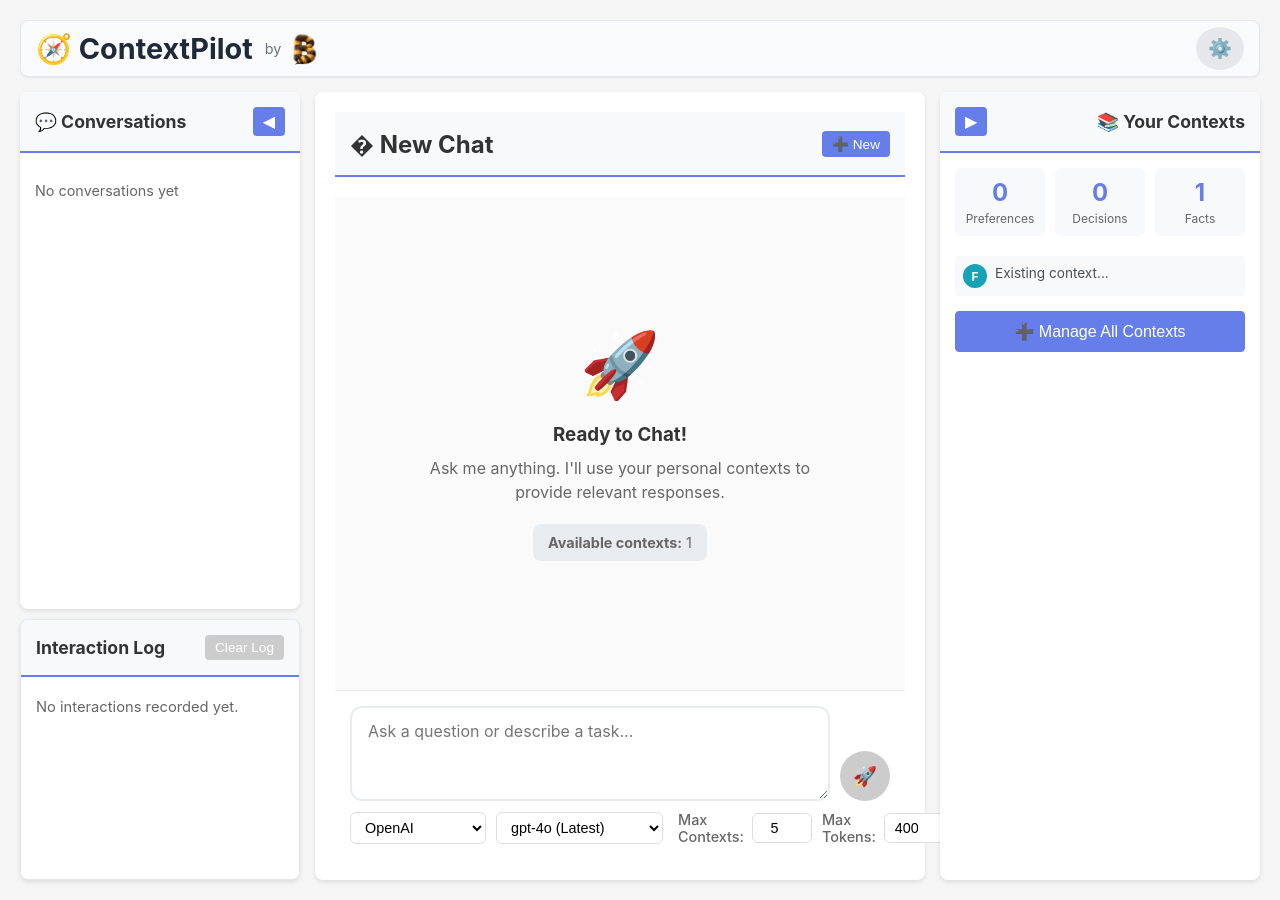
Scenario: App integration › opens settings modal and saves settings
Click the button titled "Settings" at point(1220, 48), box [1196,27,1244,70]
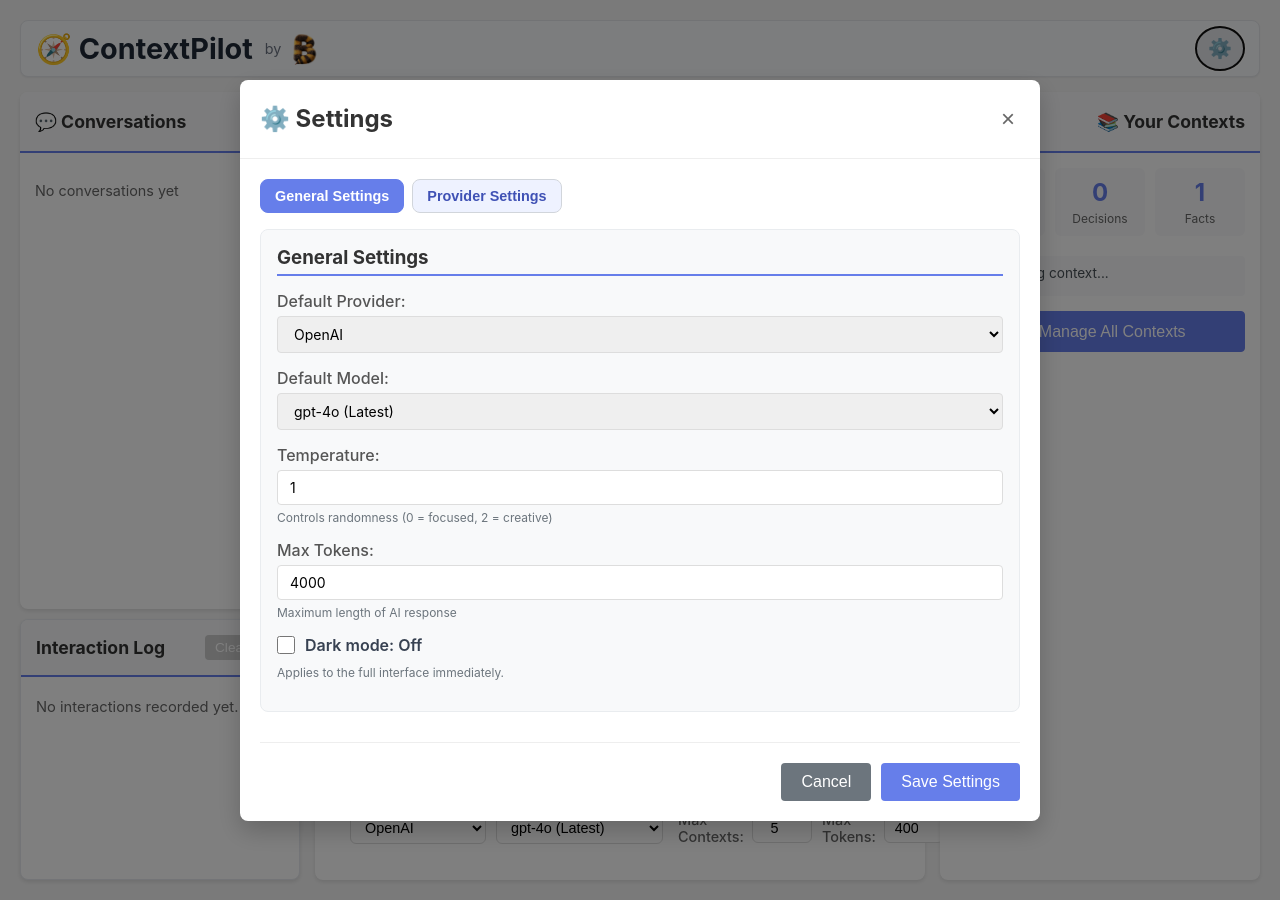
Check: the form with class "settings-form" is shown
Submit the form with class "settings-form", box [240,158,1040,820]
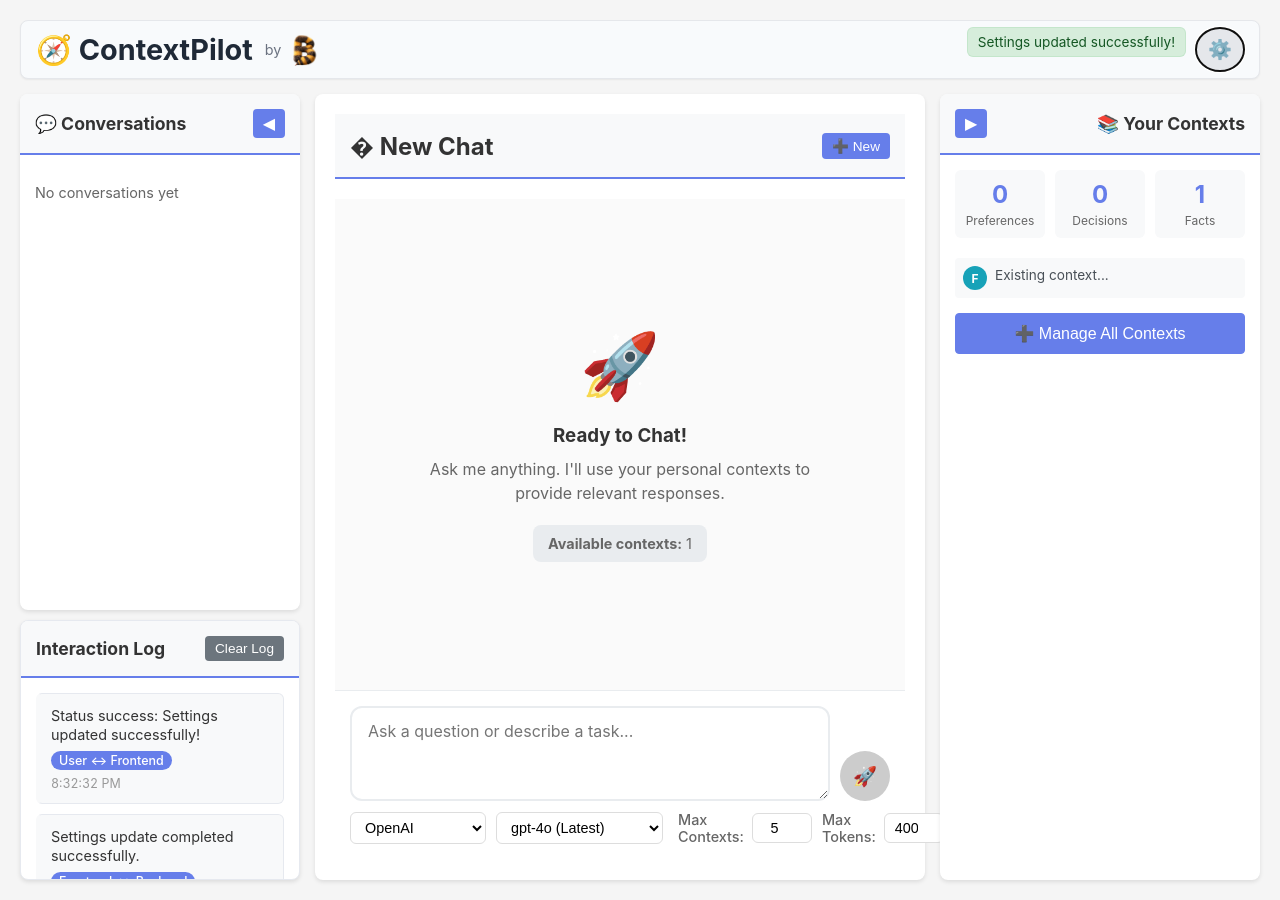
Check: the text "Settings updated successfully!" is shown, box [967,27,1186,57]
